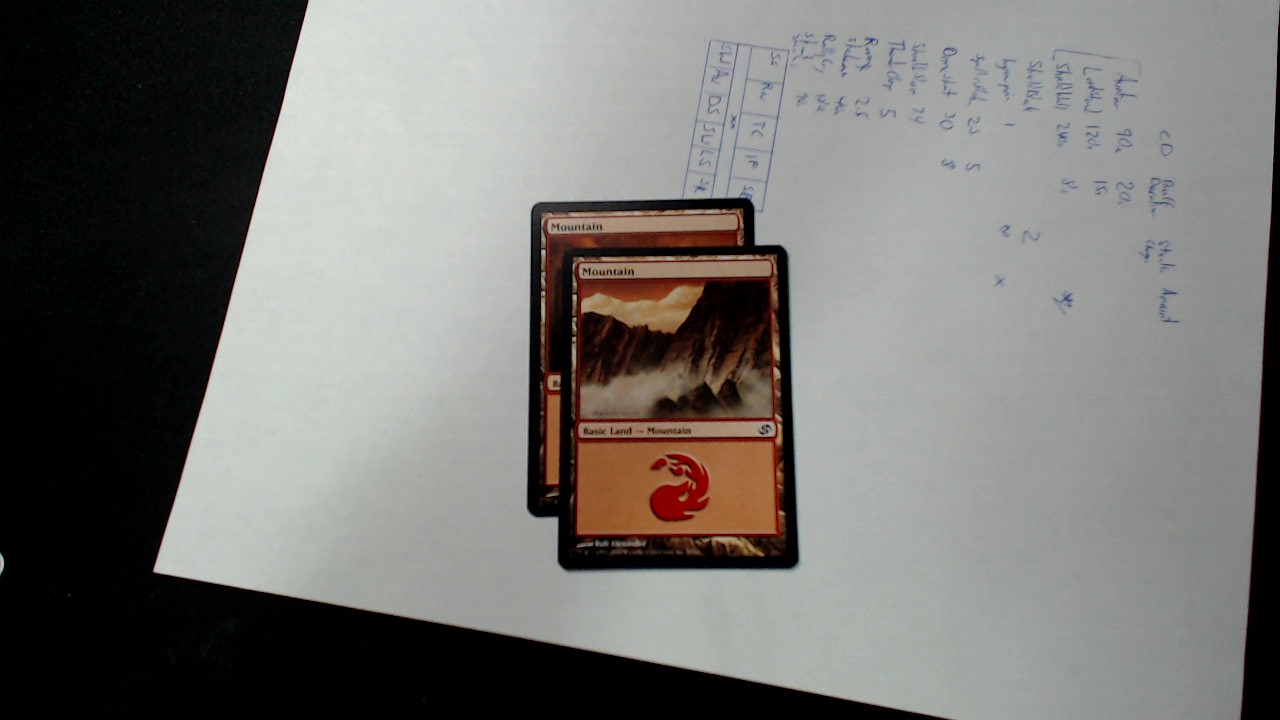MTG Card: (553, 237, 804, 578), (523, 193, 764, 521)
